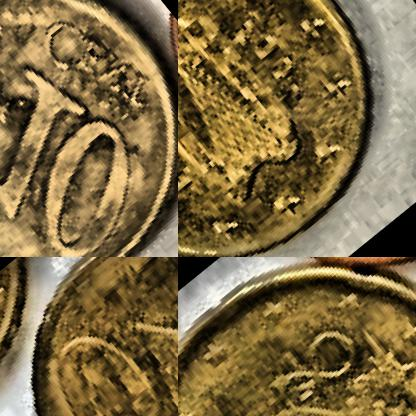coin: (178, 0, 415, 256), (0, 0, 177, 256), (178, 257, 415, 415), (0, 257, 177, 415)
